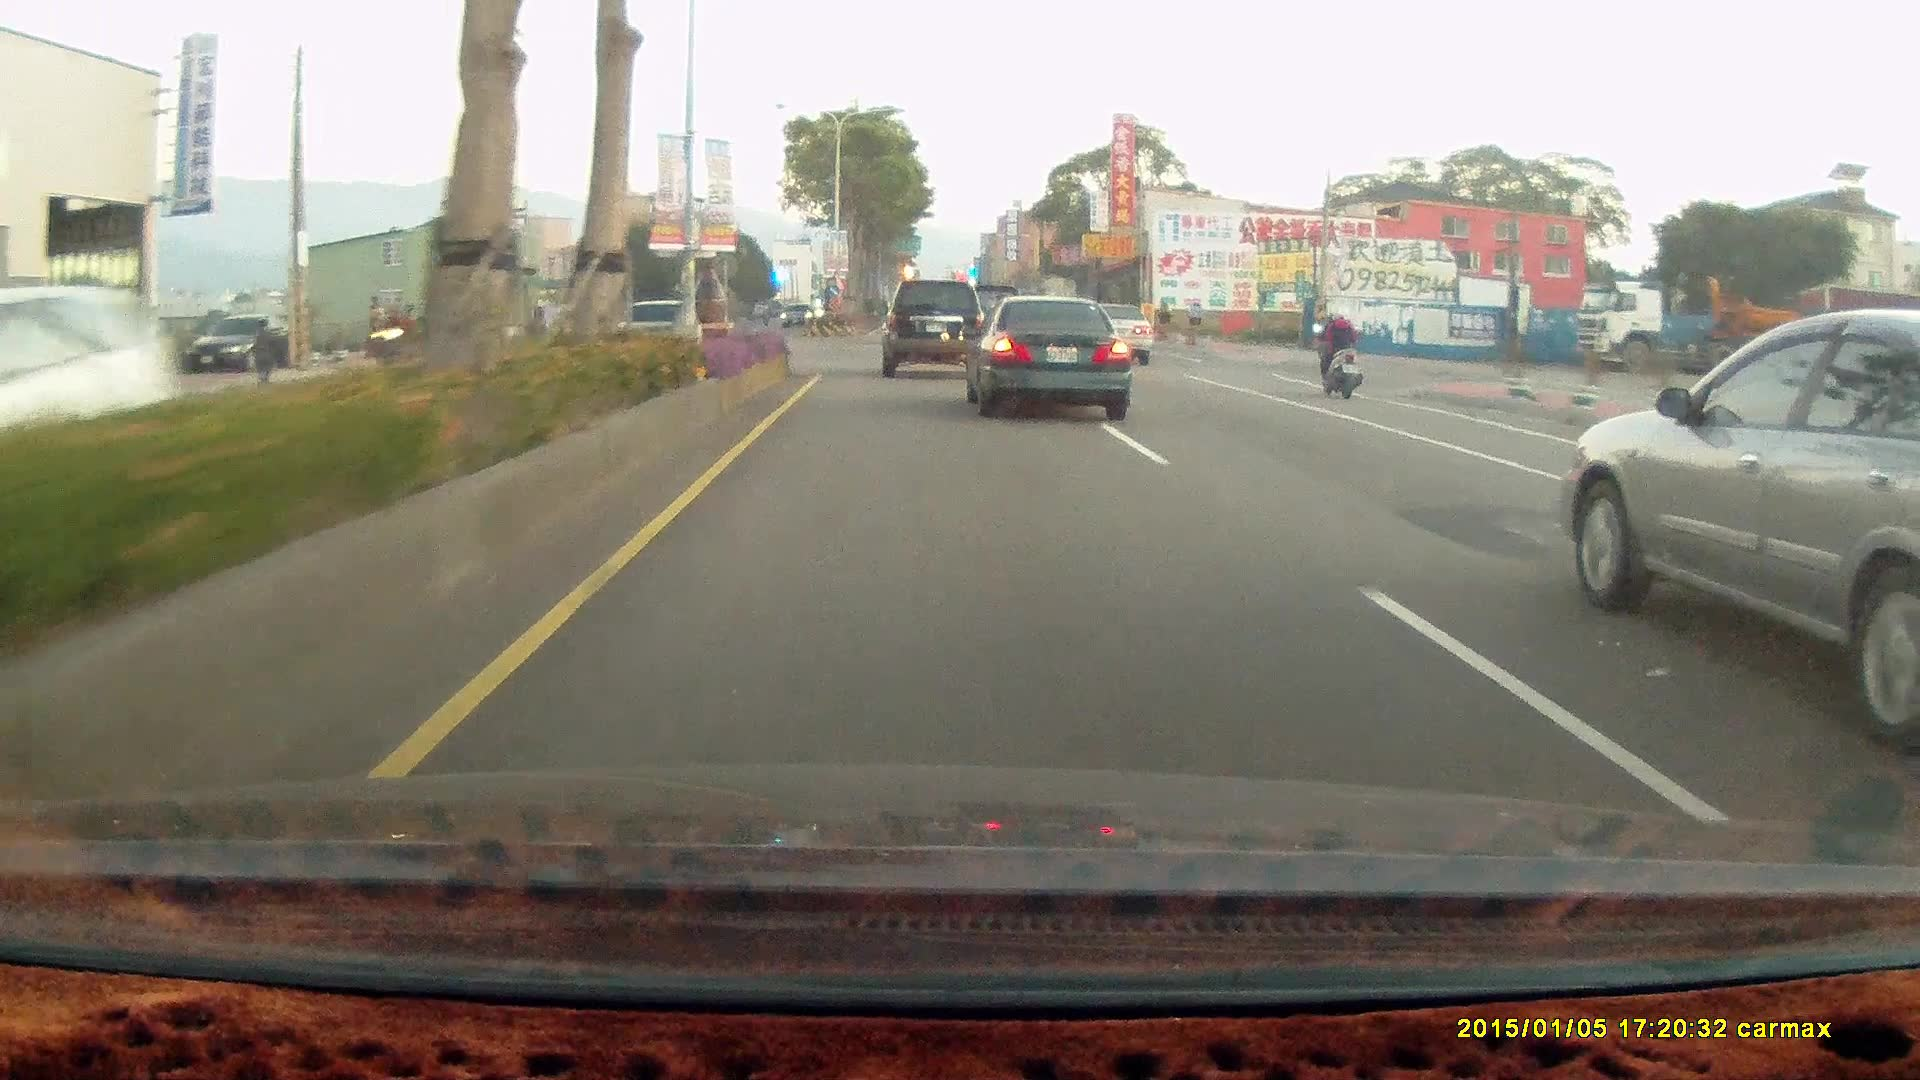pedestrian: (249, 317, 275, 384)
rider: (1305, 297, 1373, 408), (1309, 292, 1365, 389), (362, 299, 416, 380)
vehicle: (1556, 309, 1920, 747), (0, 282, 182, 502), (1572, 276, 1920, 374), (956, 288, 1126, 412), (969, 292, 1135, 414), (880, 274, 990, 374), (879, 277, 984, 378), (608, 297, 707, 365), (185, 312, 285, 370), (1074, 298, 1155, 366), (1075, 301, 1156, 369), (778, 302, 814, 326)
